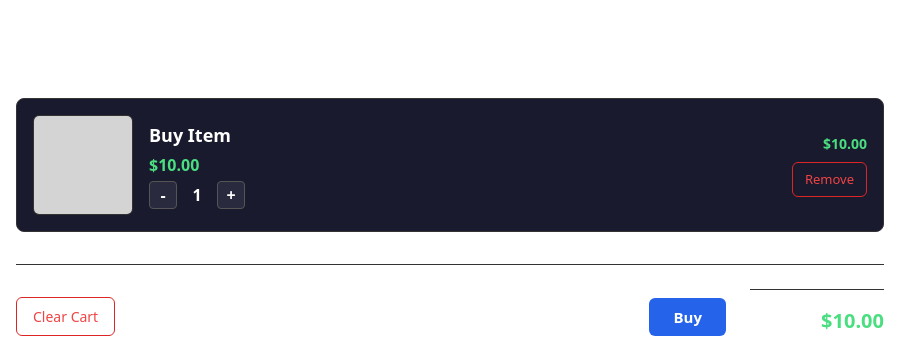
it: CartPage › buy button shows notification when clicked
The width and height of the screenshot is (901, 353).
Click the button "Buy" at x=688, y=317, box [650,298,726,336]
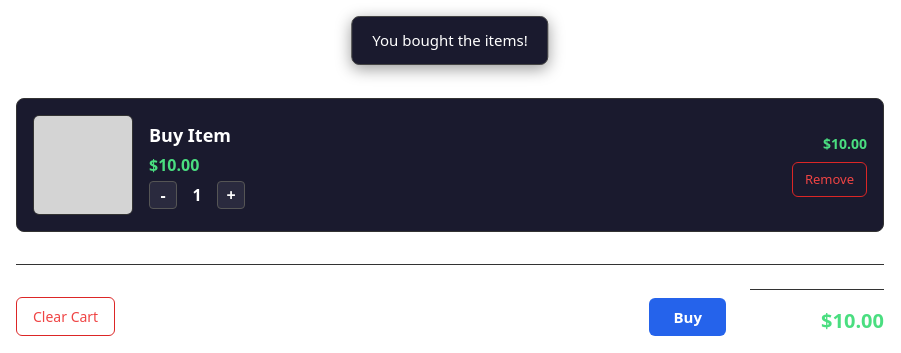
Now the text "You bought the items!" is shown, box [351,16,549,64]
